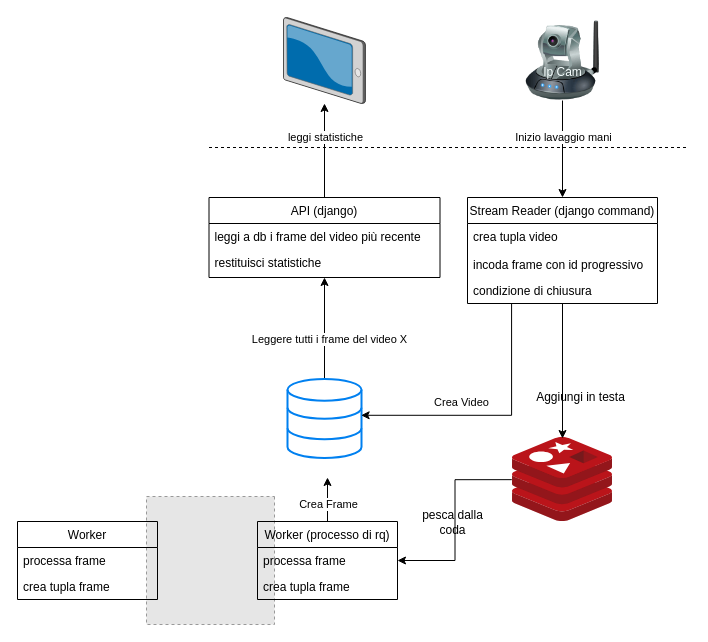
This 708x642 diagram has some shape labels left out. Grey dashed boxes stand in for pictures. The centre of each missing label's shape, as x and y in pixels:
"Postgres" goes at [324,417].
"Redis Queue (django-rq)" goes at [562,479].
"UI" goes at [324,60].
